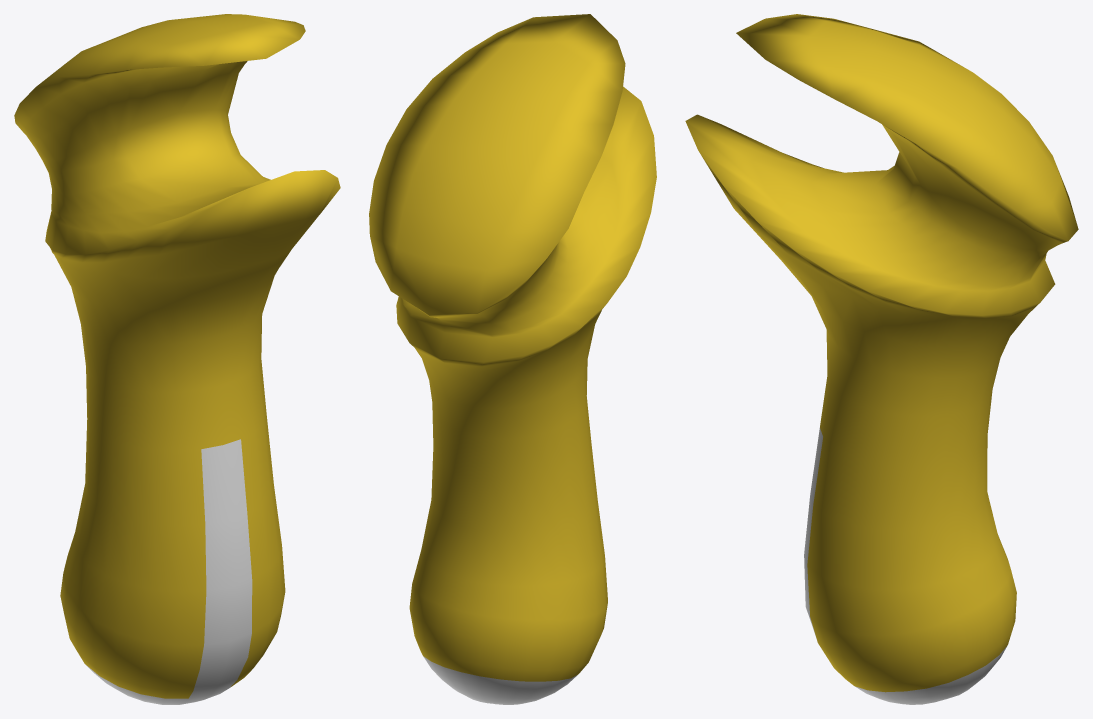
Rendered from toy3_LP.fbx.
3 renders of one model, left to right at view 1: azimuth 30°, elevation 25°; view 2: azimuth 150°, elevation 25°; view 3: azimuth 270°, elevation 25°, orthographic. The views are drawn at different scales.
Parts seen in each view (by area): view 1: 552518 v1 low; view 2: 552518 v1 low; view 3: 552518 v1 low.
Boxes of the visible parts, <box> form: 552518 v1 low: <box>14,14,340,704</box>; 552518 v1 low: <box>369,14,656,704</box>; 552518 v1 low: <box>685,14,1078,704</box>.
Size of the model in its own units: 17.28 by 51.74 by 27.85.
